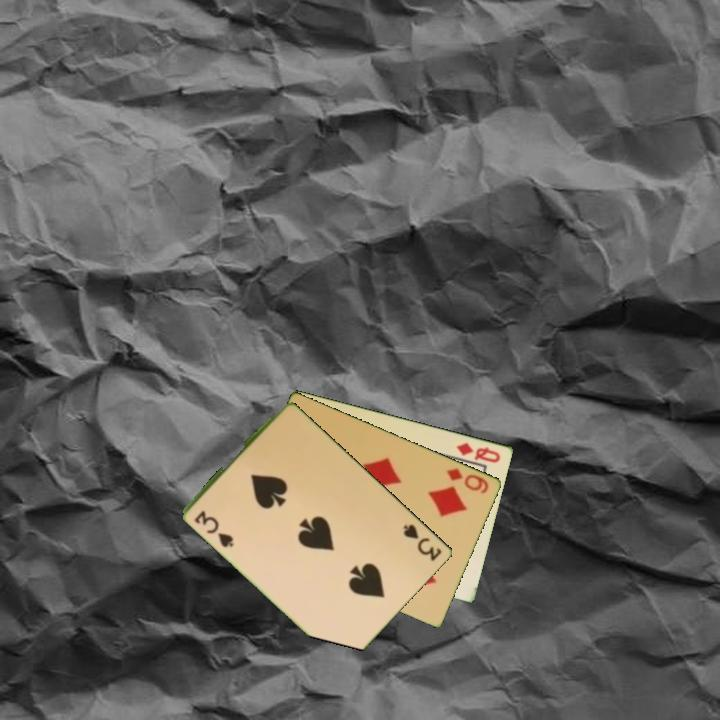3s: (400, 520, 445, 564), (191, 507, 236, 550)
6d: (443, 464, 492, 497)
Qd: (453, 439, 504, 466)
